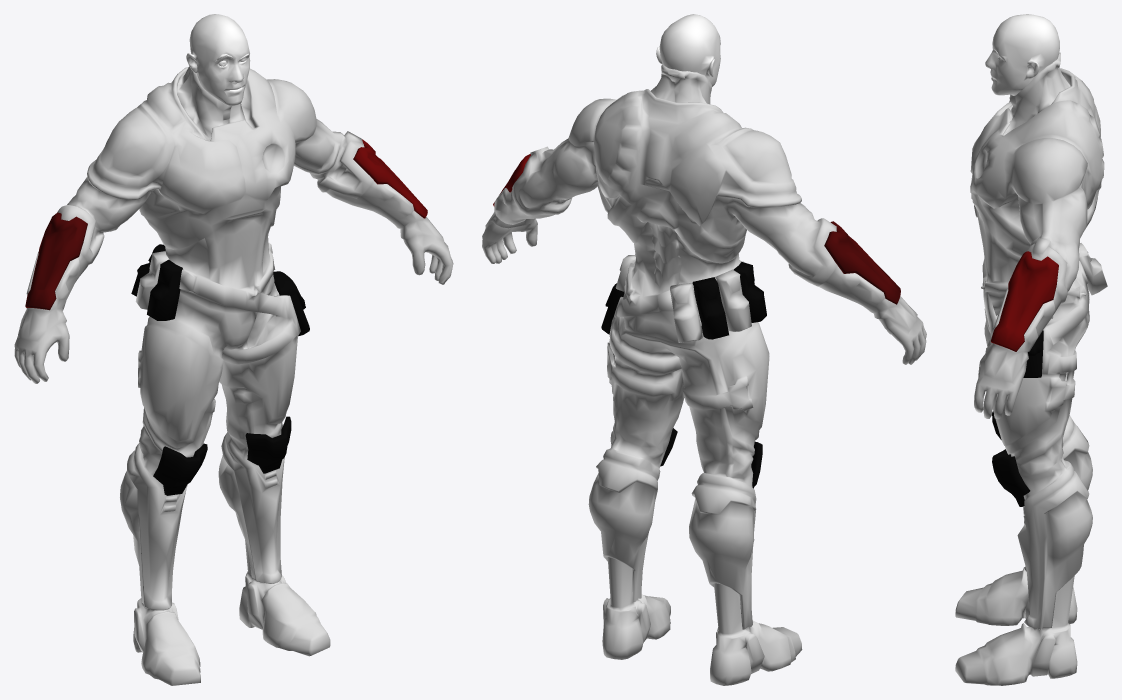
Rendered from regret.glb.
3 views of the same model, side by side, from view 1: azimuth 30°, elevation 25°; view 2: azimuth 150°, elevation 25°; view 3: azimuth 270°, elevation 25° (orthographic).
Visible parts, largest first — view 1: M_MED_Turtleneck_LOD0.mo; view 2: M_MED_Turtleneck_LOD0.mo; view 3: M_MED_Turtleneck_LOD0.mo.
Boxes of the visible parts, bbox=[...] form: M_MED_Turtleneck_LOD0.mo: bbox=[14, 14, 453, 685]; M_MED_Turtleneck_LOD0.mo: bbox=[482, 14, 926, 685]; M_MED_Turtleneck_LOD0.mo: bbox=[955, 14, 1107, 685].
Size of the model in its own units: 1.19 by 1.67 by 0.3678.
